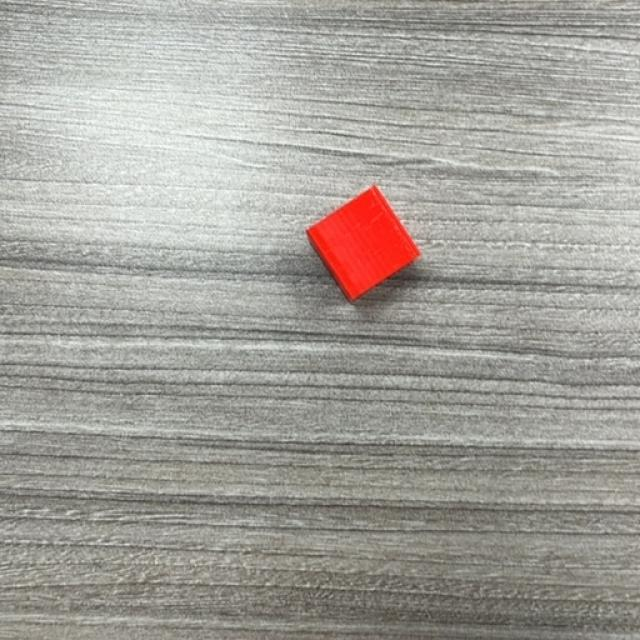Rojo: (305, 188, 421, 302)
